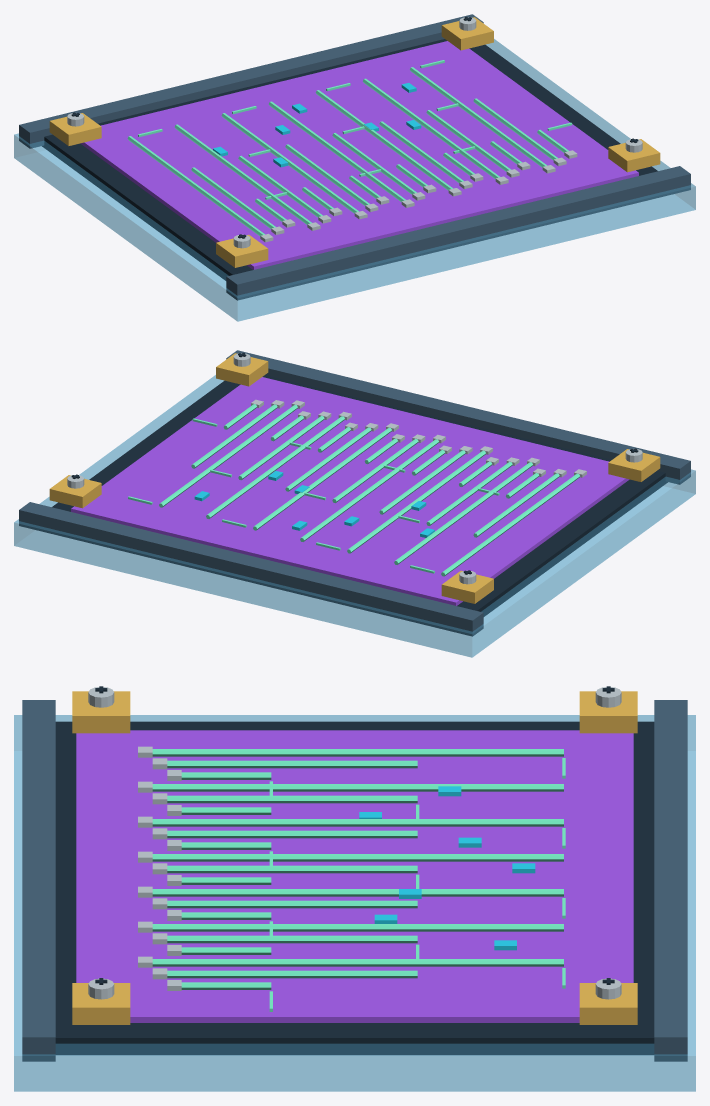
The model's file is 19_L74_HighResolutionCircuitReticle.fbx.
3 views of the same model, one above another, from view 1: azimuth 30°, elevation 25°; view 2: azimuth 150°, elevation 25°; view 3: azimuth 270°, elevation 25° (orthographic). The views are drawn at different scales.
Parts seen in each view (by area): view 1: HighResolutionCircuitReticle; view 2: HighResolutionCircuitReticle; view 3: HighResolutionCircuitReticle.
Boxes of the visible parts, x1,y1,x2,y2 form: HighResolutionCircuitReticle: [14, 14, 695, 321]; HighResolutionCircuitReticle: [14, 350, 695, 657]; HighResolutionCircuitReticle: [14, 686, 695, 1091].
Bounding box in the file's own units: 194 × 23 × 164.
